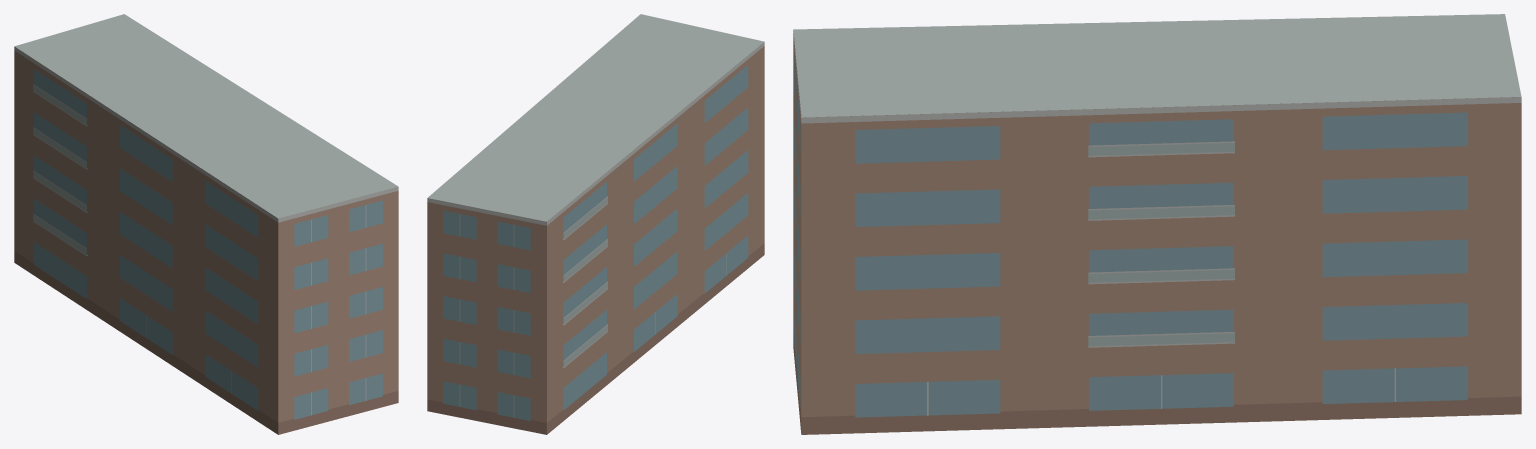
File: survey-upis-32881148.glb
The picture shows the model from 3 angles, left to right: view 1: azimuth 30°, elevation 25°; view 2: azimuth 150°, elevation 25°; view 3: azimuth 270°, elevation 25°; orthographic projection. The views are drawn at different scales.
Visible parts, largest first — view 1: survey-upis-32881148.tmp; view 2: survey-upis-32881148.tmp; view 3: survey-upis-32881148.tmp.
Boxes of the visible parts, box(x1,y1,x2,y2) form: survey-upis-32881148.tmp: box(14, 14, 398, 434); survey-upis-32881148.tmp: box(427, 14, 764, 434); survey-upis-32881148.tmp: box(793, 14, 1521, 434).
Size of the model in its own units: 9.03 by 12.9 by 26.83.
